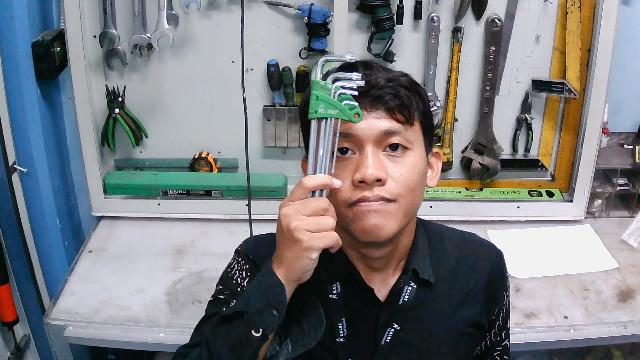kunci_l_bintang: (301, 50, 366, 253)
